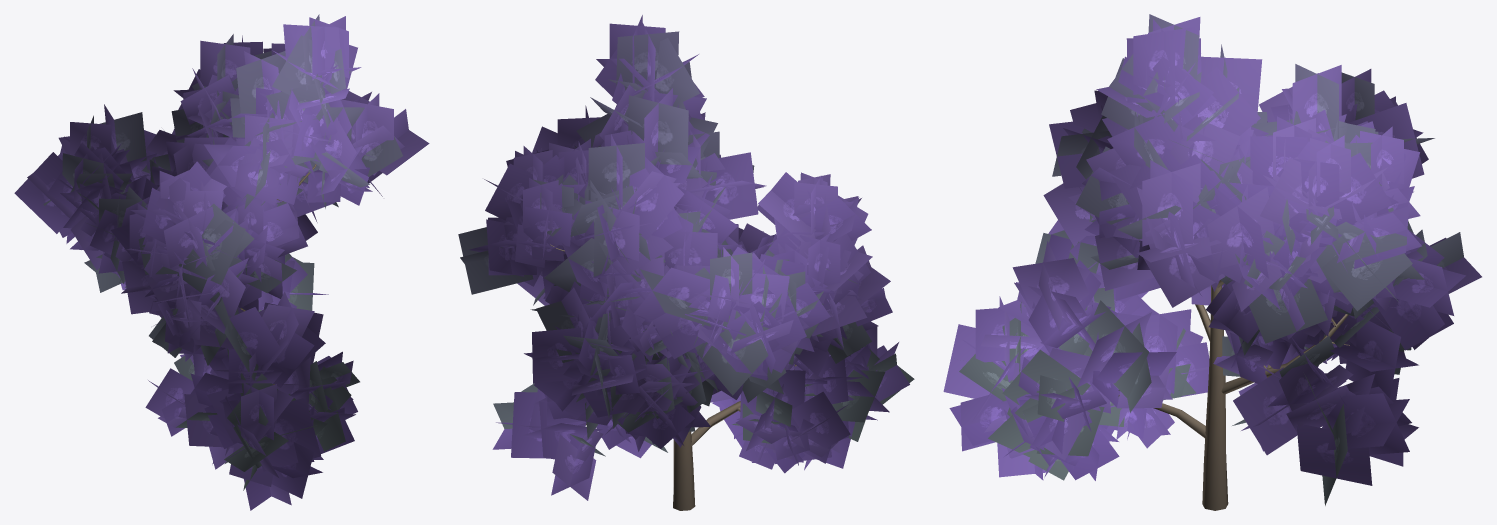
File: jacaranda.glb
3 renders of one model, left to right at view 1: azimuth 30°, elevation 25°; view 2: azimuth 150°, elevation 25°; view 3: azimuth 270°, elevation 25°, orthographic. The views are drawn at different scales.
Visible parts, largest first — view 1: jacaranda; view 2: jacaranda; view 3: jacaranda.
Part boxes in pixels (x1,y1,x2,y2): jacaranda: (14, 14, 429, 510); jacaranda: (458, 15, 914, 510); jacaranda: (943, 14, 1481, 510).
Bounding box in the file's own units: 9.23 × 11.5 × 10.86.
2 materials, 1 textured.
